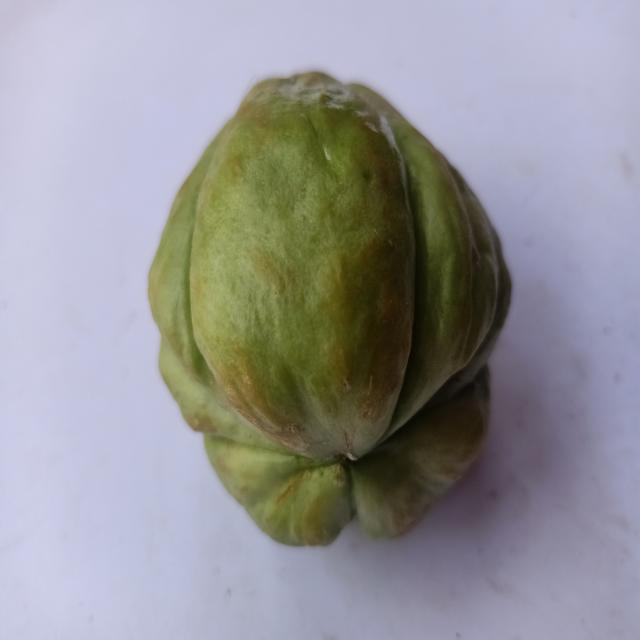Chayote: (142, 59, 520, 552)
